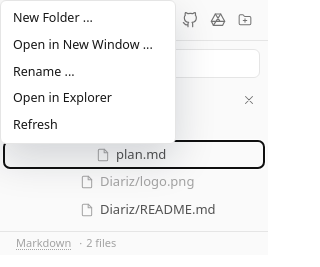
Test: the workspace menu › open in Explorer › shows the entry right-clicked, {}
The image size is (320, 267).
Click the menu item "Open in Explorer" at x=88, y=99, box [5,85,171,112]
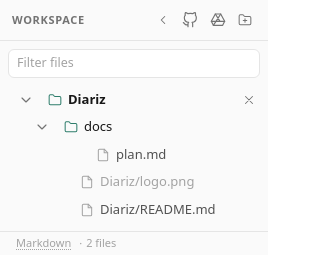
Result: the menu is gone
